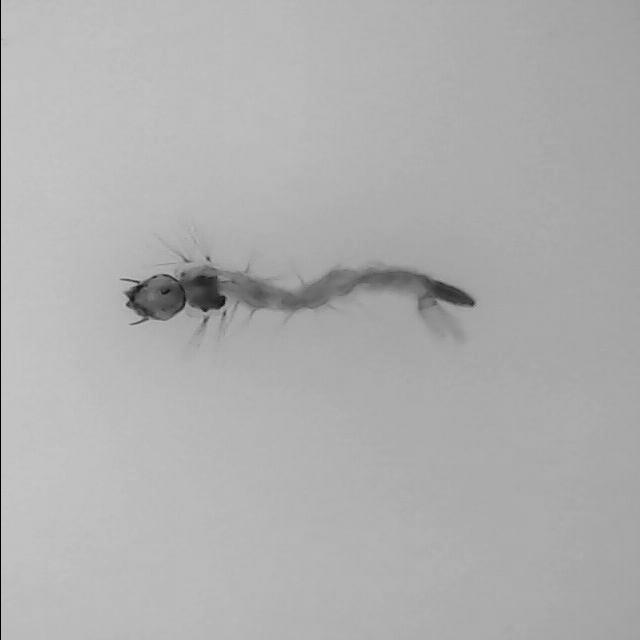larvas: (128, 260, 475, 327)
